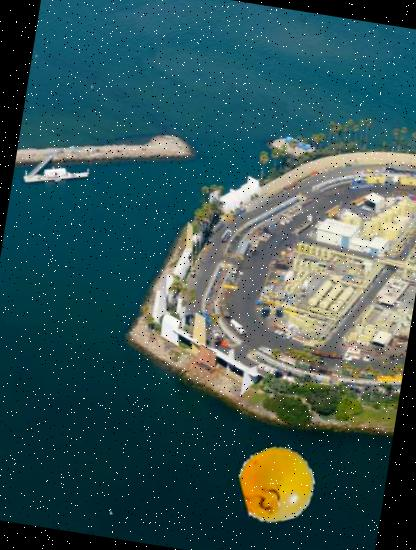Grape: (235, 442, 320, 528)
